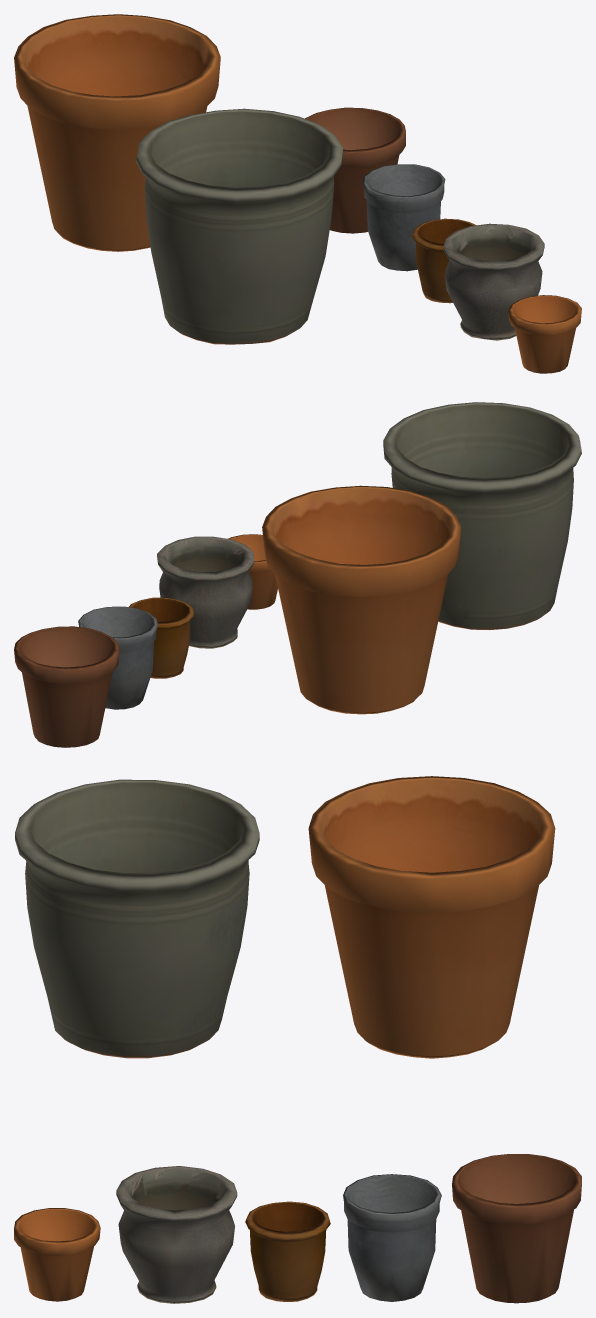
The model's file is Flower Pots.fbx.
3 views of the same model, one above another, from view 1: azimuth 30°, elevation 25°; view 2: azimuth 150°, elevation 25°; view 3: azimuth 270°, elevation 25° (orthographic). The views are drawn at different scales.
Visible parts, largest first — view 1: tripo_node_f7b8972f-c3d7-42c5-8f2d-85d49ecca137.001, tripo_node_f7b8972f-c3d7-42c5-8f2d-85d49ecca137.002, tripo_node_f7b8972f-c3d7-42c5-8f2d-85d49ecca137.006, tripo_node_f7b8972f-c3d7-42c5-8f2d-85d49ecca137.004, tripo_node_f7b8972f-c3d7-42c5-8f2d-85d49ecca137.003, tripo_node_f7b8972f-c3d7-42c5-8f2d-85d49ecca137.007, tripo_node_f7b8972f-c3d7-42c5-8f2d-85d49ecca137.005; view 2: tripo_node_f7b8972f-c3d7-42c5-8f2d-85d49ecca137.002, tripo_node_f7b8972f-c3d7-42c5-8f2d-85d49ecca137.001, tripo_node_f7b8972f-c3d7-42c5-8f2d-85d49ecca137.003, tripo_node_f7b8972f-c3d7-42c5-8f2d-85d49ecca137.006, tripo_node_f7b8972f-c3d7-42c5-8f2d-85d49ecca137.004, tripo_node_f7b8972f-c3d7-42c5-8f2d-85d49ecca137.005, tripo_node_f7b8972f-c3d7-42c5-8f2d-85d49ecca137.007; view 3: tripo_node_f7b8972f-c3d7-42c5-8f2d-85d49ecca137.001, tripo_node_f7b8972f-c3d7-42c5-8f2d-85d49ecca137.002, tripo_node_f7b8972f-c3d7-42c5-8f2d-85d49ecca137.003, tripo_node_f7b8972f-c3d7-42c5-8f2d-85d49ecca137.006, tripo_node_f7b8972f-c3d7-42c5-8f2d-85d49ecca137.004, tripo_node_f7b8972f-c3d7-42c5-8f2d-85d49ecca137.005, tripo_node_f7b8972f-c3d7-42c5-8f2d-85d49ecca137.007.
Boxes of the visible parts, bbox=[...] form: tripo_node_f7b8972f-c3d7-42c5-8f2d-85d49ecca137.001: bbox=[136, 108, 342, 344]; tripo_node_f7b8972f-c3d7-42c5-8f2d-85d49ecca137.002: bbox=[14, 14, 220, 251]; tripo_node_f7b8972f-c3d7-42c5-8f2d-85d49ecca137.006: bbox=[443, 223, 544, 340]; tripo_node_f7b8972f-c3d7-42c5-8f2d-85d49ecca137.004: bbox=[362, 164, 445, 271]; tripo_node_f7b8972f-c3d7-42c5-8f2d-85d49ecca137.003: bbox=[305, 107, 405, 233]; tripo_node_f7b8972f-c3d7-42c5-8f2d-85d49ecca137.007: bbox=[508, 295, 581, 373]; tripo_node_f7b8972f-c3d7-42c5-8f2d-85d49ecca137.005: bbox=[412, 218, 475, 303]; tripo_node_f7b8972f-c3d7-42c5-8f2d-85d49ecca137.002: bbox=[262, 485, 461, 714]; tripo_node_f7b8972f-c3d7-42c5-8f2d-85d49ecca137.001: bbox=[383, 402, 581, 630]; tripo_node_f7b8972f-c3d7-42c5-8f2d-85d49ecca137.003: bbox=[14, 626, 119, 747]; tripo_node_f7b8972f-c3d7-42c5-8f2d-85d49ecca137.006: bbox=[157, 536, 254, 648]; tripo_node_f7b8972f-c3d7-42c5-8f2d-85d49ecca137.004: bbox=[78, 606, 157, 709]; tripo_node_f7b8972f-c3d7-42c5-8f2d-85d49ecca137.005: bbox=[129, 597, 193, 678]; tripo_node_f7b8972f-c3d7-42c5-8f2d-85d49ecca137.007: bbox=[228, 534, 277, 609]; tripo_node_f7b8972f-c3d7-42c5-8f2d-85d49ecca137.001: bbox=[15, 779, 259, 1058]; tripo_node_f7b8972f-c3d7-42c5-8f2d-85d49ecca137.002: bbox=[308, 776, 555, 1058]; tripo_node_f7b8972f-c3d7-42c5-8f2d-85d49ecca137.003: bbox=[452, 1154, 581, 1303]; tripo_node_f7b8972f-c3d7-42c5-8f2d-85d49ecca137.006: bbox=[116, 1166, 237, 1303]; tripo_node_f7b8972f-c3d7-42c5-8f2d-85d49ecca137.004: bbox=[343, 1174, 441, 1301]; tripo_node_f7b8972f-c3d7-42c5-8f2d-85d49ecca137.005: bbox=[245, 1201, 330, 1301]; tripo_node_f7b8972f-c3d7-42c5-8f2d-85d49ecca137.007: bbox=[14, 1208, 100, 1301].
Bounding box in the file's own units: 98.63 × 59.57 × 99.8.
Materials: 1 (1 with a texture image).
